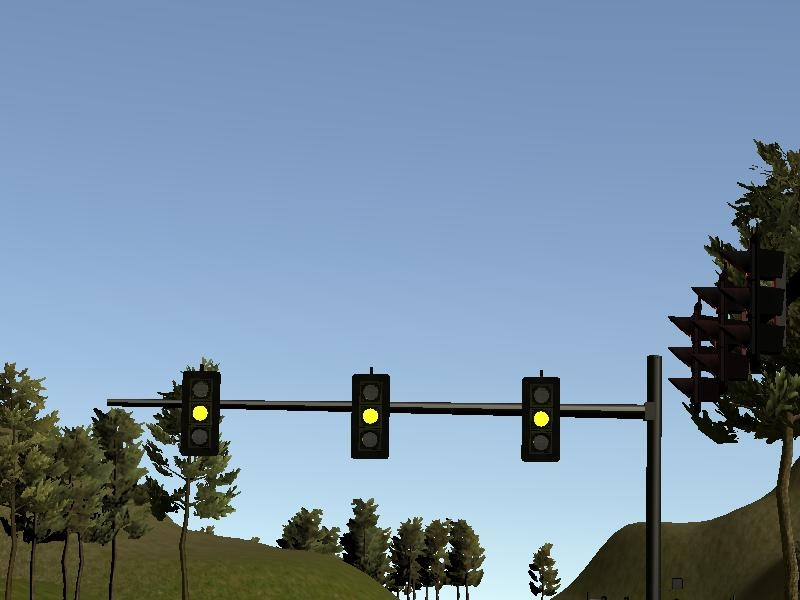YELLOW: (519, 377, 559, 463), (350, 374, 390, 460), (179, 370, 219, 456)
